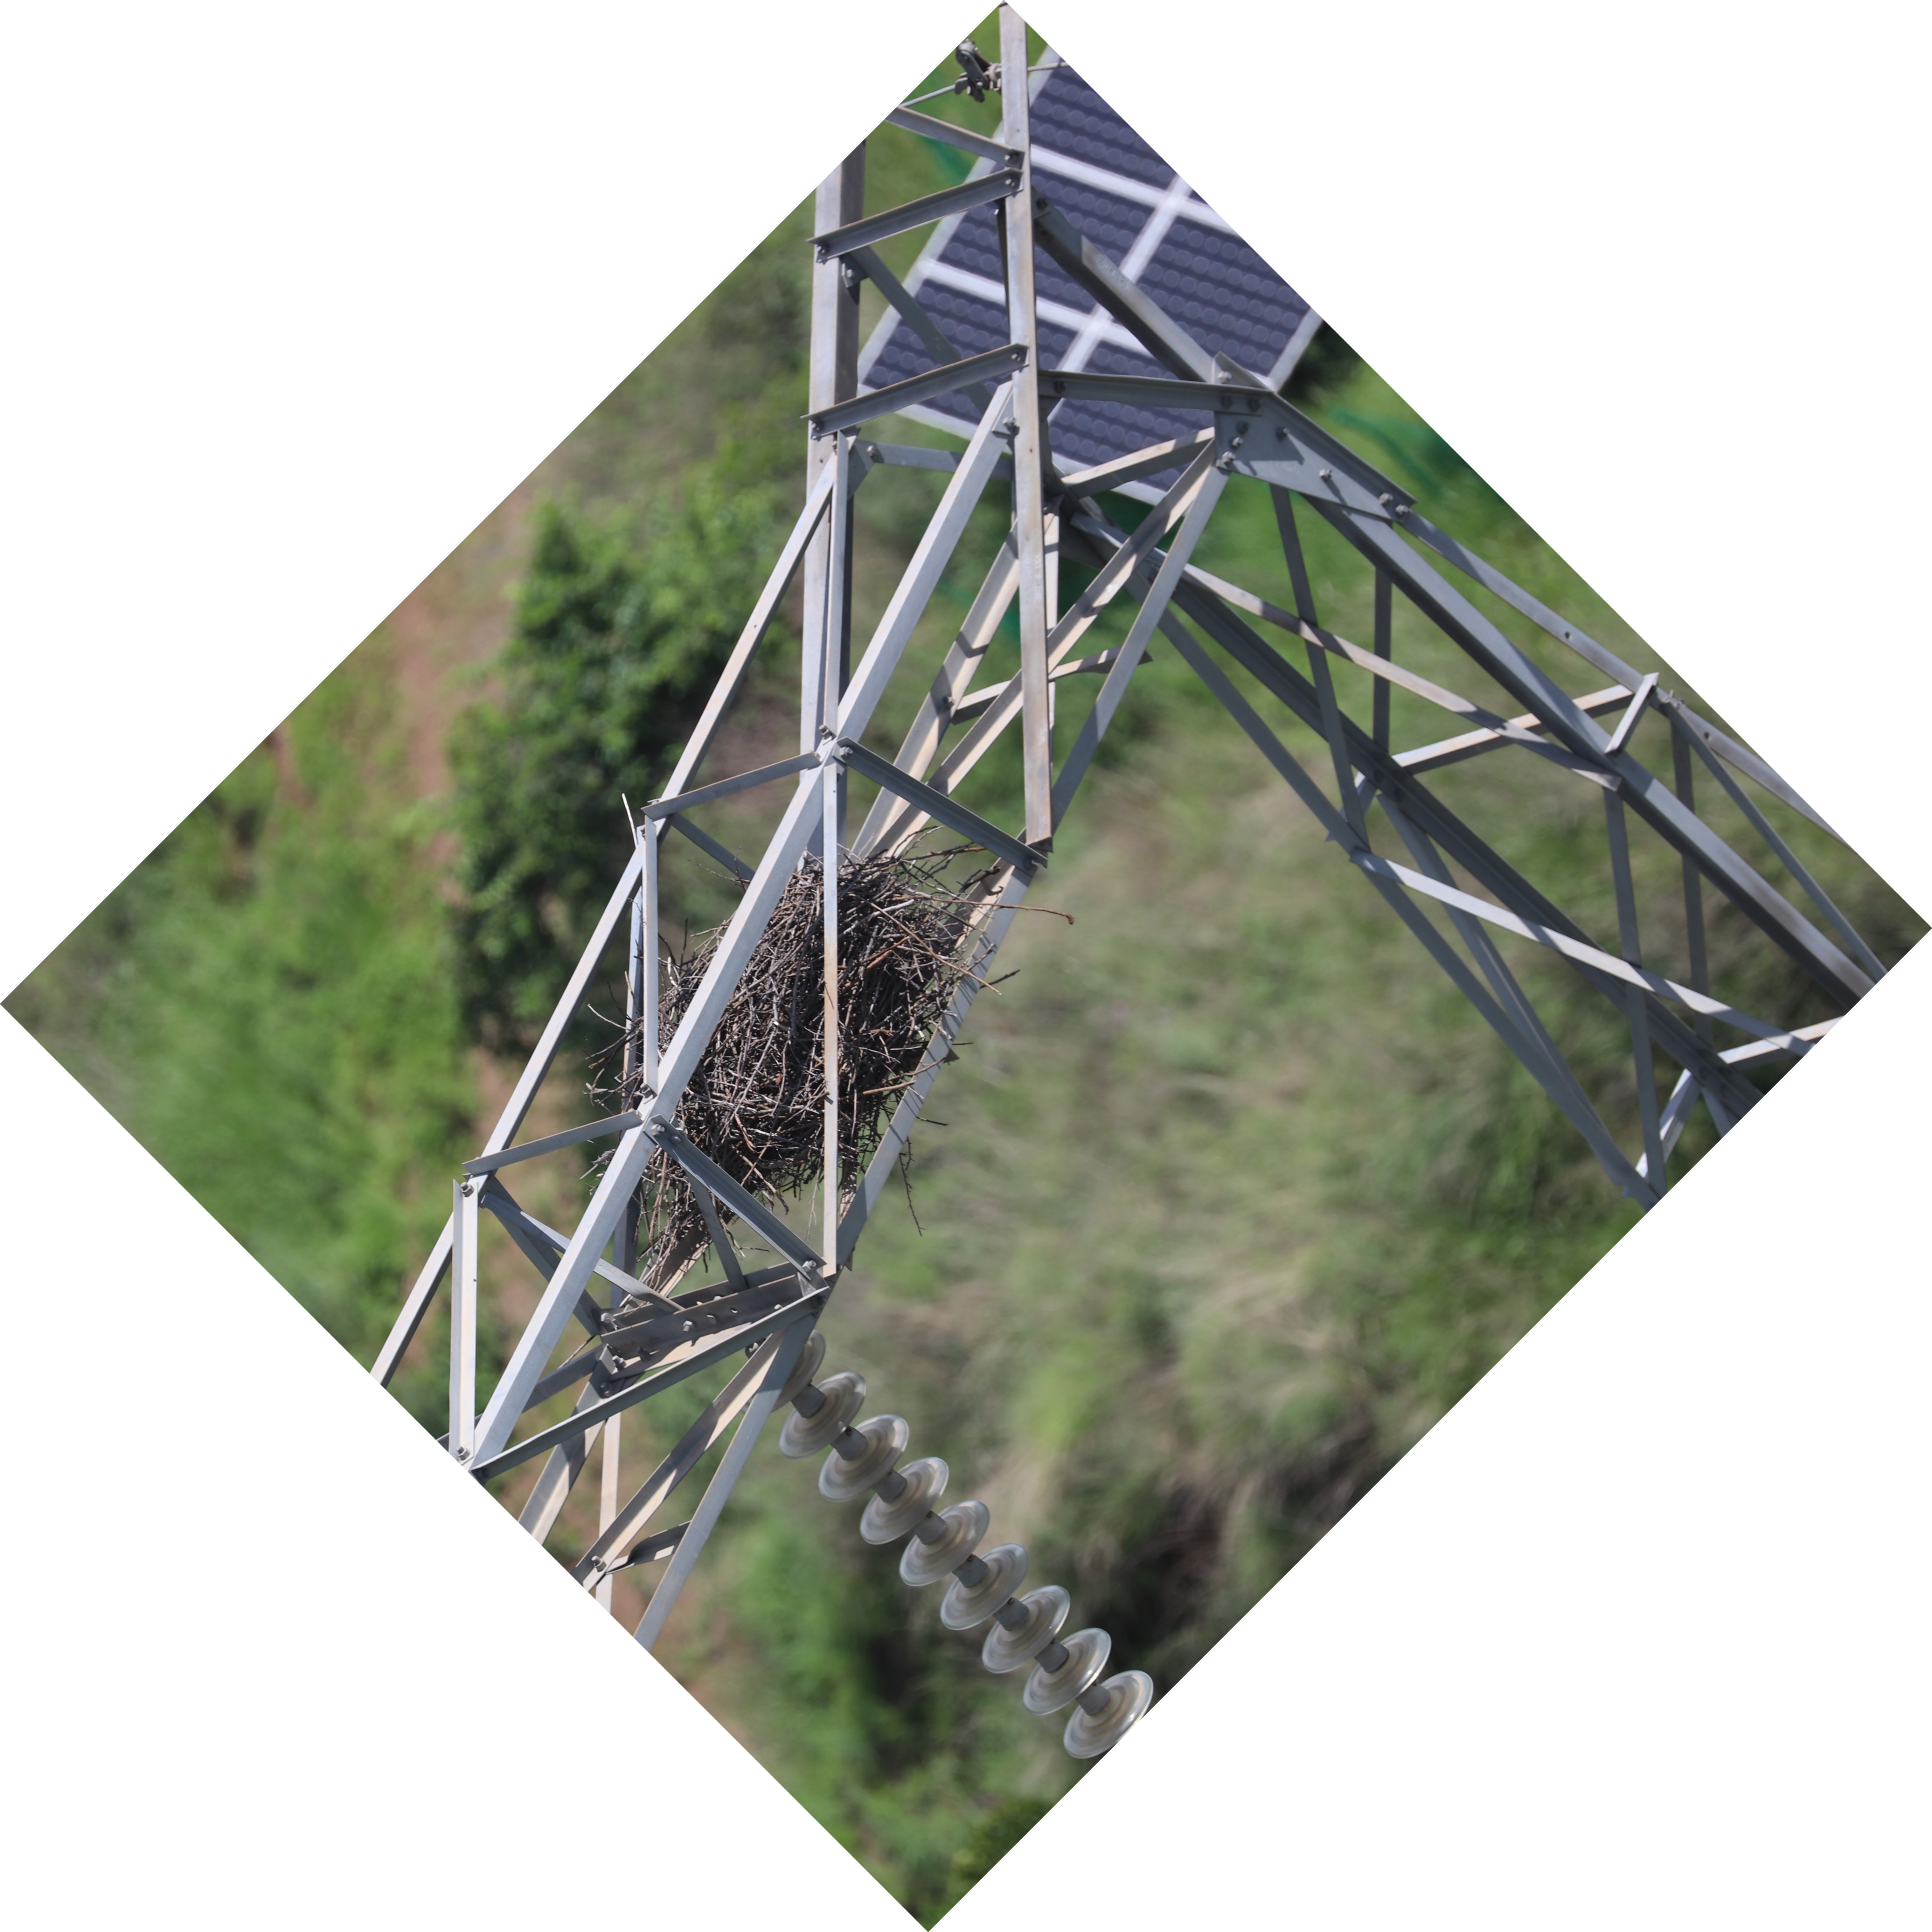niaowo: (596, 819, 984, 1237)
